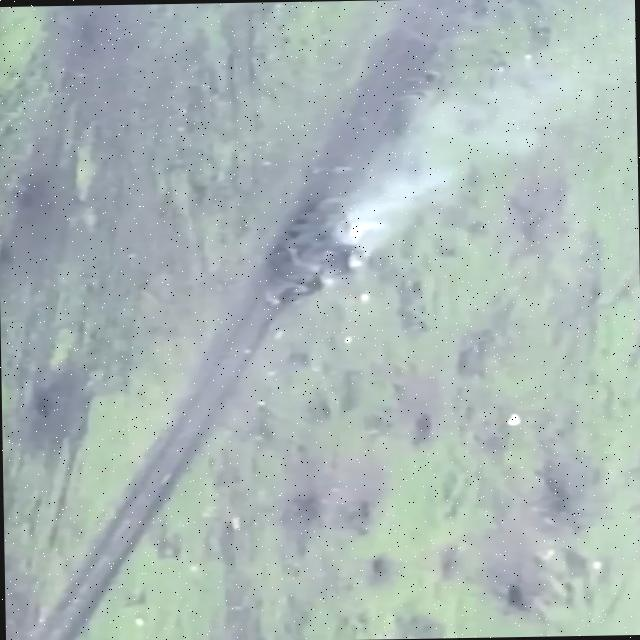APC: (263, 195, 371, 295)
